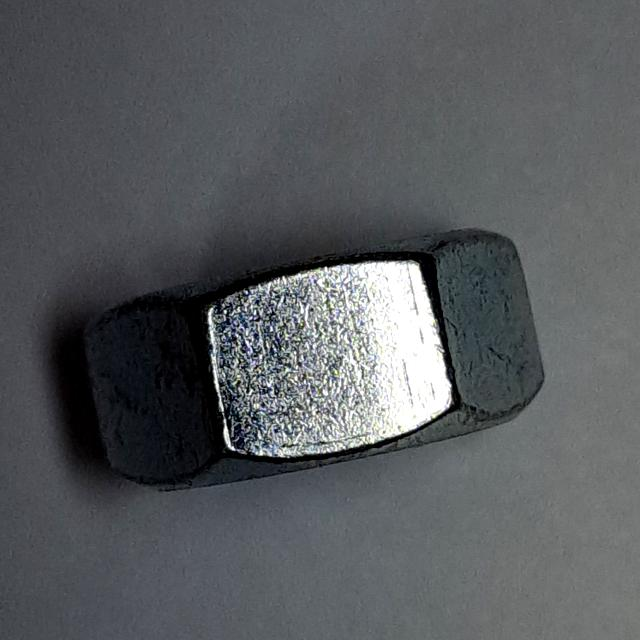Side_Excellent: (75, 199, 563, 524)
